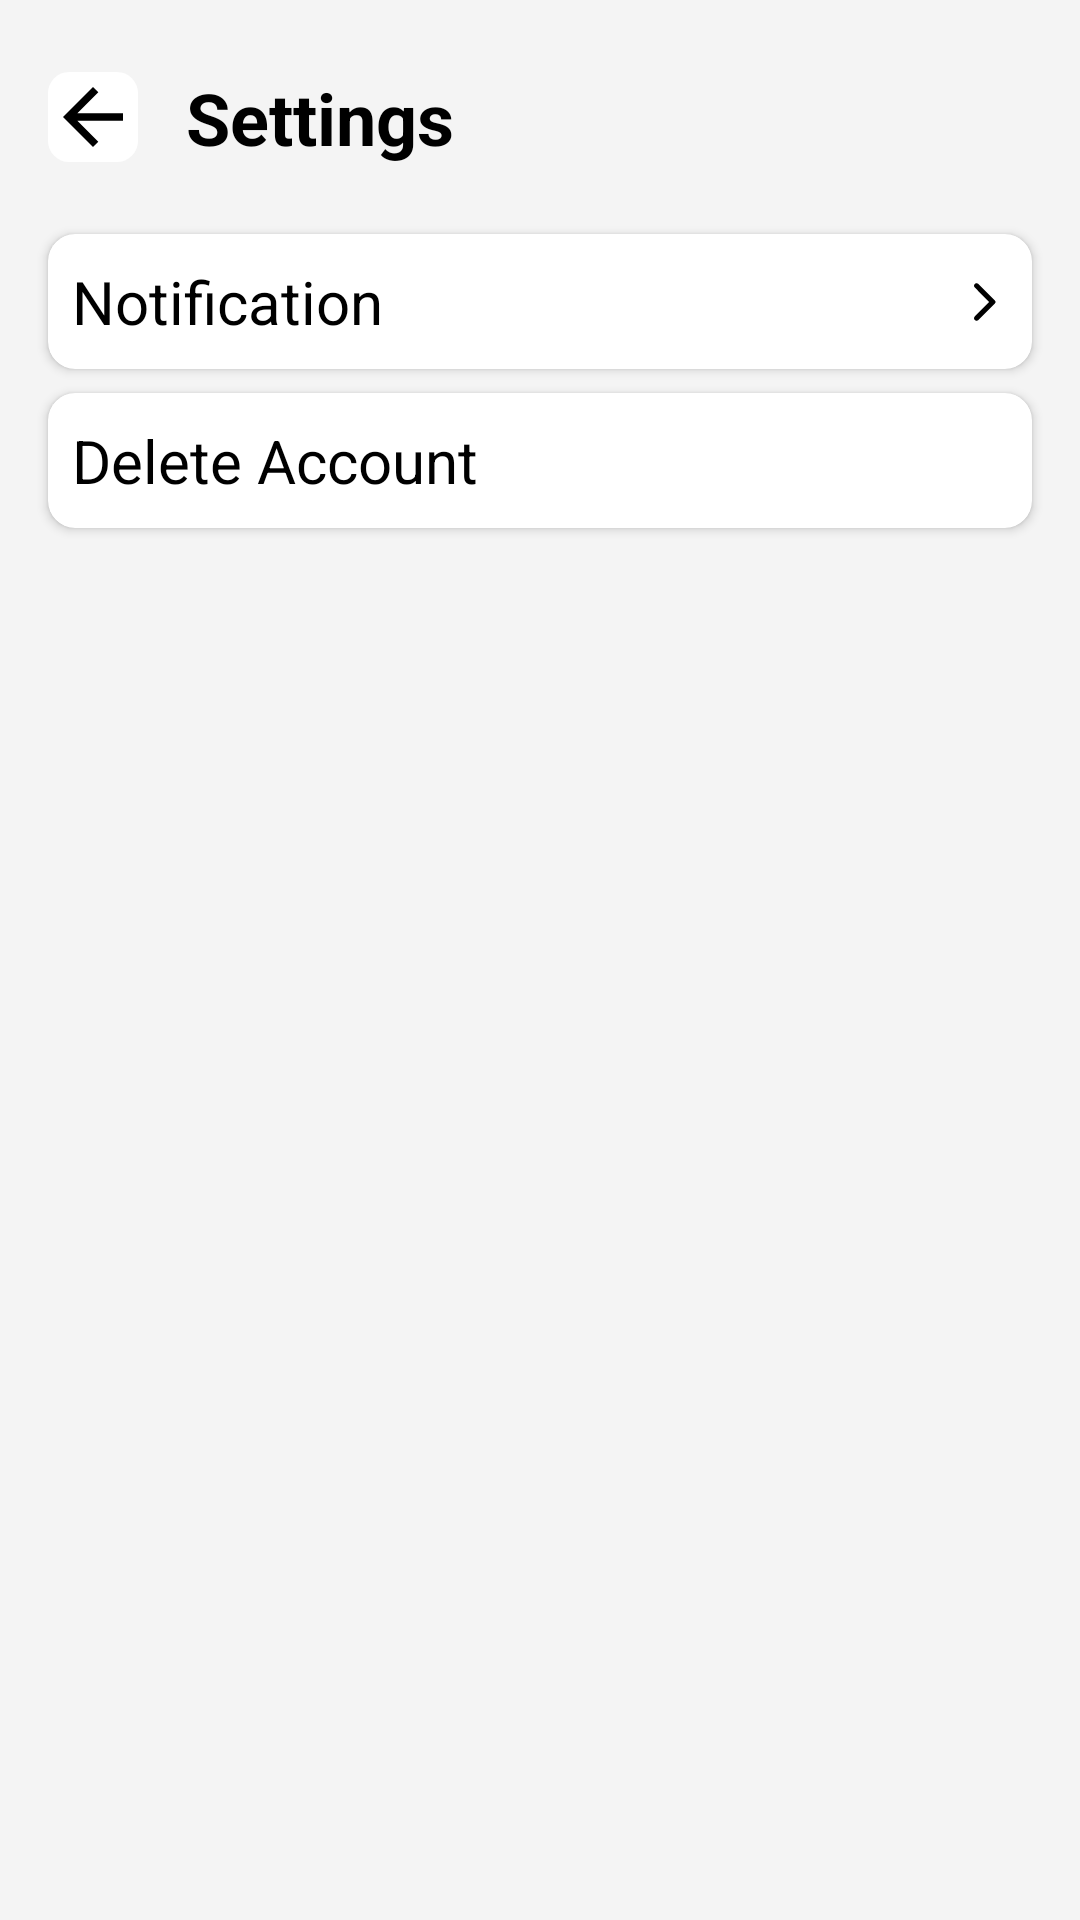

Locate icon controls on the screen. Image size 1080px x 1920px, boxes as box=[x1, y1, x2, y2].
back: box=[48, 72, 138, 162]
right arrow: box=[974, 283, 996, 321]
